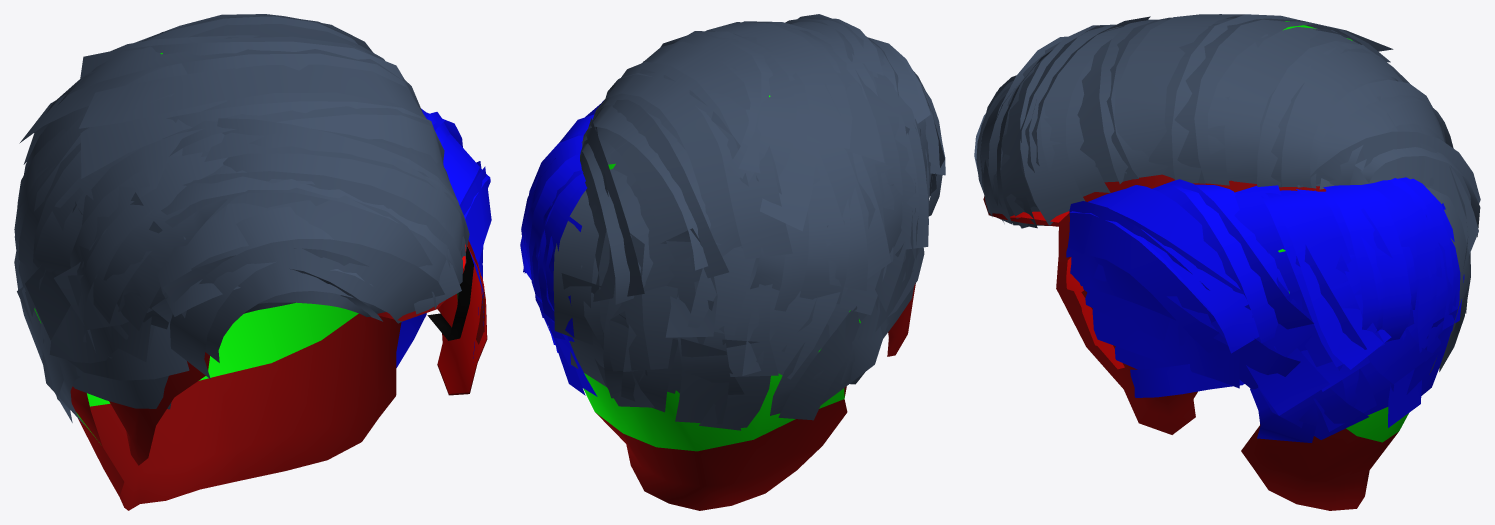
The model's file is hair_002.obj.
The picture shows the model from 3 angles, left to right: view 1: azimuth 30°, elevation 25°; view 2: azimuth 150°, elevation 25°; view 3: azimuth 270°, elevation 25°; orthographic projection. The views are drawn at different scales.
Bounding box in the file's own units: 18.72 × 21.72 × 21.75.
